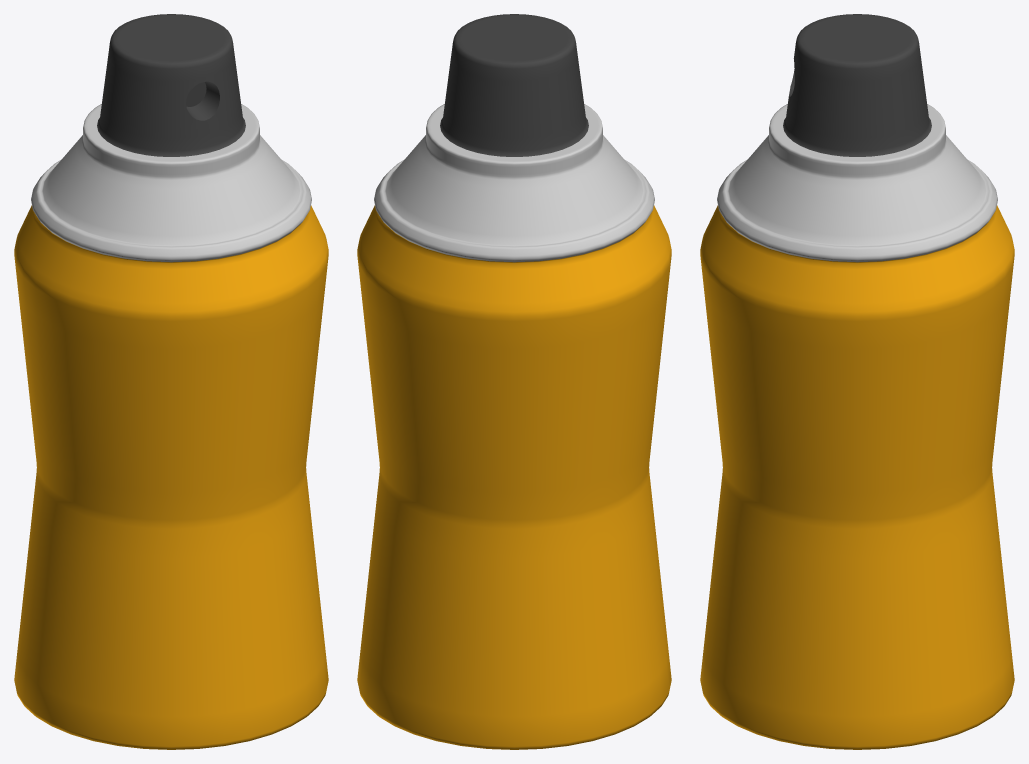
File: Spray.FBX
The picture shows the model from 3 angles, left to right: view 1: azimuth 30°, elevation 25°; view 2: azimuth 150°, elevation 25°; view 3: azimuth 270°, elevation 25°; orthographic projection.
Visible parts, largest first — view 1: Cylinder001, Spray; view 2: Cylinder001, Spray; view 3: Cylinder001, Spray.
Boxes of the visible parts, bbox=[...] form: Cylinder001: bbox=[14, 104, 328, 749]; Spray: bbox=[97, 14, 245, 156]; Cylinder001: bbox=[357, 104, 671, 749]; Spray: bbox=[440, 14, 588, 156]; Cylinder001: bbox=[700, 104, 1014, 749]; Spray: bbox=[783, 14, 931, 156].
Bounding box in the file's own units: 19.63 × 19.63 × 44.54.
